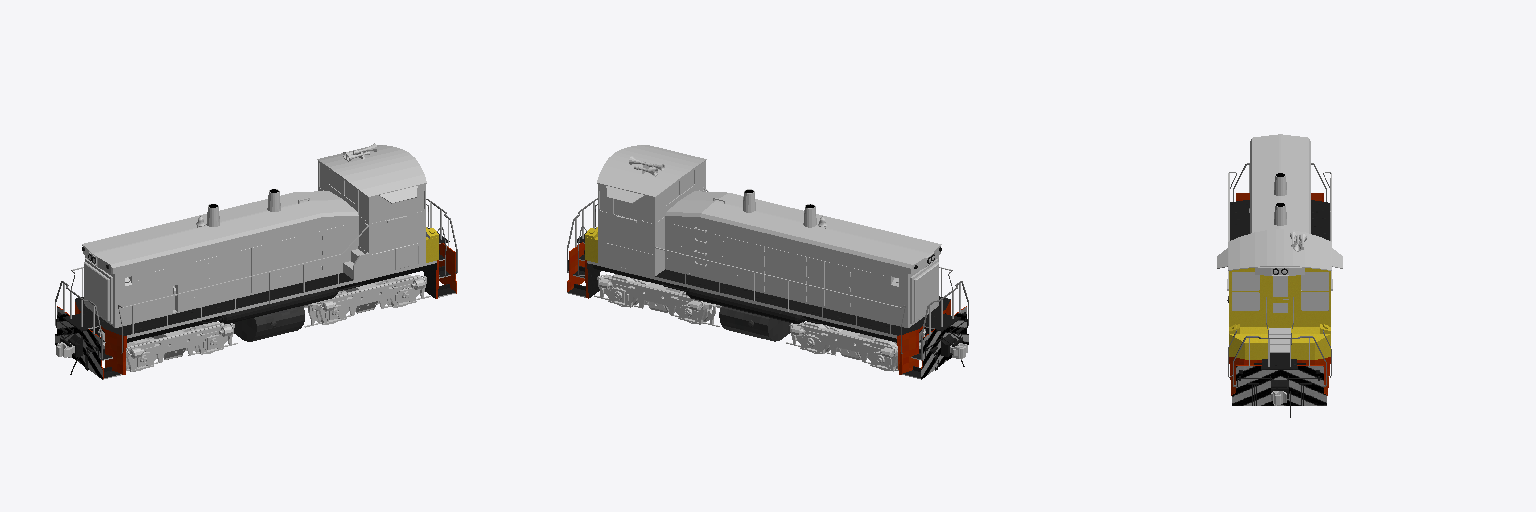
3 renders of one model, left to right at view 1: azimuth 30°, elevation 25°; view 2: azimuth 150°, elevation 25°; view 3: azimuth 270°, elevation 25°, orthographic.
Parts seen in each view (by area): view 1: SHELL_Cube, FRAME_Cube.001, CAB_Plane.004, BOGEY_REAR_Cylinder.019, BOGEY_FRONT_Cylinder.026, FUEL_TANK_Cylinder.025; view 2: SHELL_Cube, FRAME_Cube.001, CAB_Plane.004, BOGEY_REAR_Cylinder.019, BOGEY_FRONT_Cylinder.026, FUEL_TANK_Cylinder.025; view 3: CAB_Plane.004, FRAME_Cube.001, SHELL_Cube.
Part boxes in pixels (x1,y1,x2,y2): SHELL_Cube: (82, 189, 358, 327); FRAME_Cube.001: (55, 199, 457, 379); CAB_Plane.004: (317, 145, 438, 279); BOGEY_REAR_Cylinder.019: (303, 275, 430, 327); BOGEY_FRONT_Cylinder.026: (98, 322, 237, 371); FUEL_TANK_Cylinder.025: (220, 306, 304, 341); SHELL_Cube: (665, 189, 941, 327); FRAME_Cube.001: (567, 189, 968, 379); CAB_Plane.004: (585, 145, 706, 276); BOGEY_REAR_Cylinder.019: (594, 274, 721, 326); BOGEY_FRONT_Cylinder.026: (786, 322, 925, 371); FUEL_TANK_Cylinder.025: (719, 306, 803, 341); CAB_Plane.004: (1217, 229, 1342, 359); FRAME_Cube.001: (1228, 163, 1331, 417); SHELL_Cube: (1249, 134, 1310, 233).
Bounding box in the file's own units: 13.19 × 4.76 × 3.64.
38 materials, 12 textured.